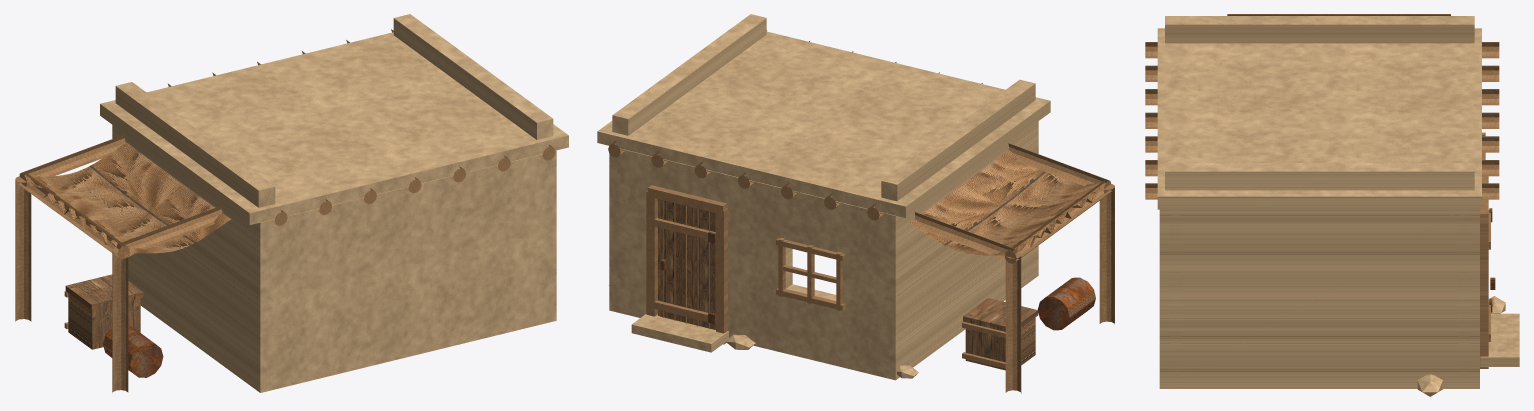
Rendered from desert_hut_v4.glb.
3 renders of one model, left to right at view 1: azimuth 30°, elevation 25°; view 2: azimuth 150°, elevation 25°; view 3: azimuth 270°, elevation 25°, orthographic. The views are drawn at different scales.
Visible parts, largest first — view 1: wall_back_01, roof_earthen_01, wall_side_01, fabric_awning_01, roof_edge_02, roof_edge_01, porch_post_01, porch_post_02, decorative_crate_body_01, decorative_barrel_01, porch_crossbeam_01, porch_crossbeam_02 (+2 smaller); view 2: roof_earthen_01, wall_side_01, wall_front_01, fabric_awning_01, wall_front_02, wall_front_03, door_leaf_01, roof_edge_01, roof_edge_02, wall_window_sill_01, wall_window_header_01, porch_post_01 (+16 smaller); view 3: wall_side_02, roof_earthen_01, roof_edge_01, roof_edge_02, wall_back_01, wall_front_03, stone_threshold_01, door_frame_02, roof_log_05, roof_log_07, roof_log_01, roof_log_02 (+5 smaller).
Part boxes in pixels (<box>): wall_back_01: <box>250,150,556,392</box>; roof_earthen_01: <box>100,32,568,224</box>; wall_side_01: <box>117,128,252,385</box>; fabric_awning_01: <box>26,142,231,257</box>; roof_edge_02: <box>393,14,553,139</box>; roof_edge_01: <box>115,82,275,207</box>; porch_post_01: <box>15,176,31,321</box>; porch_post_02: <box>112,247,128,392</box>; decorative_crate_body_01: <box>68,293,140,349</box>; decorative_barrel_01: <box>103,324,163,377</box>; porch_crossbeam_01: <box>19,134,125,186</box>; porch_crossbeam_02: <box>116,205,222,254</box>; roof_earthen_01: <box>597,31,1050,217</box>; wall_side_01: <box>900,125,1033,367</box>; wall_front_01: <box>841,202,905,380</box>; fabric_awning_01: <box>909,150,1104,256</box>; wall_front_02: <box>720,173,792,352</box>; wall_front_03: <box>609,148,658,317</box>; door_leaf_01: <box>658,199,715,329</box>; roof_edge_01: <box>881,79,1035,201</box>; roof_edge_02: <box>612,14,766,135</box>; wall_window_sill_01: <box>783,284,840,366</box>; wall_window_header_01: <box>783,190,840,252</box>; porch_post_01: <box>1005,252,1021,393</box>; wall_side_02: <box>1170,209,1469,388</box>; roof_earthen_01: <box>1157,28,1481,209</box>; roof_edge_01: <box>1165,16,1474,43</box>; roof_edge_02: <box>1165,163,1474,190</box>; wall_back_01: <box>1159,209,1180,388</box>; wall_front_03: <box>1458,209,1479,388</box>; stone_threshold_01: <box>1480,313,1519,366</box>; door_frame_02: <box>1480,218,1488,368</box>; roof_log_05: <box>1145,136,1499,152</box>; roof_log_07: <box>1145,183,1499,199</box>; roof_log_01: <box>1145,42,1499,58</box>; roof_log_02: <box>1145,65,1499,81</box>.
Bounding box in the file's own units: 7.52 × 3.4 × 5.26.
Materials: 5 (5 with a texture image).
